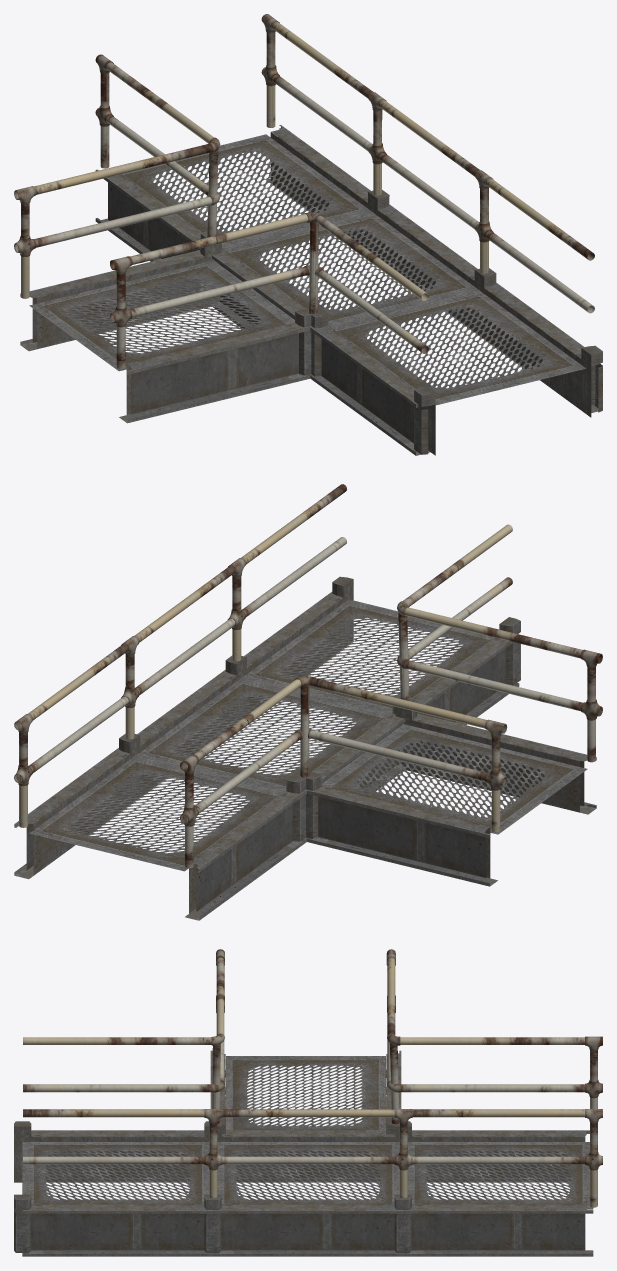
Rendered from upper_platform_T.fbx.
3 views of the same model, one above another, from view 1: azimuth 30°, elevation 25°; view 2: azimuth 150°, elevation 25°; view 3: azimuth 270°, elevation 25° (orthographic). The views are drawn at different scales.
Parts seen in each view (by area): view 1: upper_platform_T; view 2: upper_platform_T; view 3: upper_platform_T.
Part boxes in pixels (<box>): upper_platform_T: <box>14,14,602,455</box>; upper_platform_T: <box>14,484,602,920</box>; upper_platform_T: <box>14,949,602,1256</box>.
Bounding box in the file's own units: 409 × 166 × 619.
